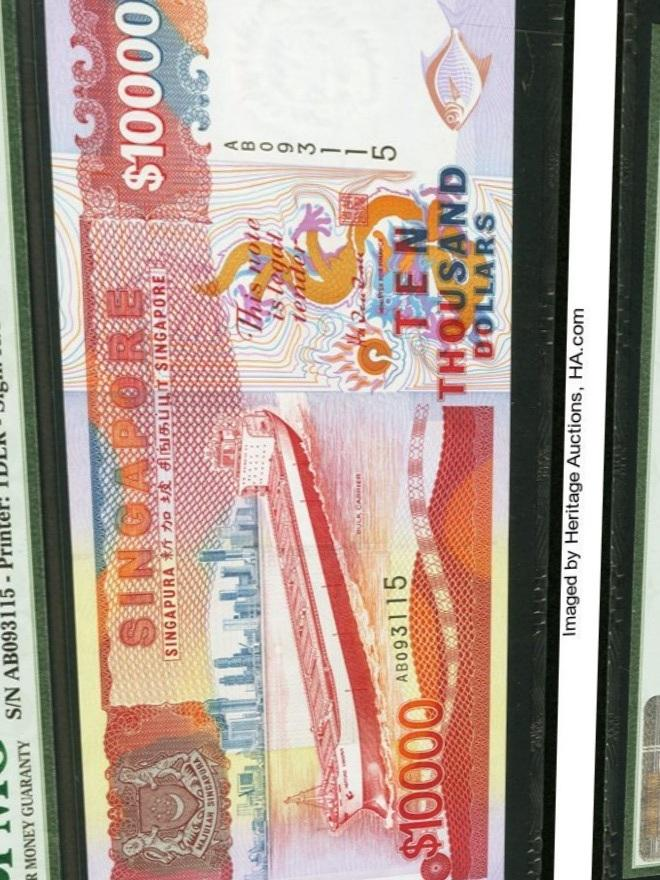10000SingaporeDollar: (58, 0, 508, 880)
